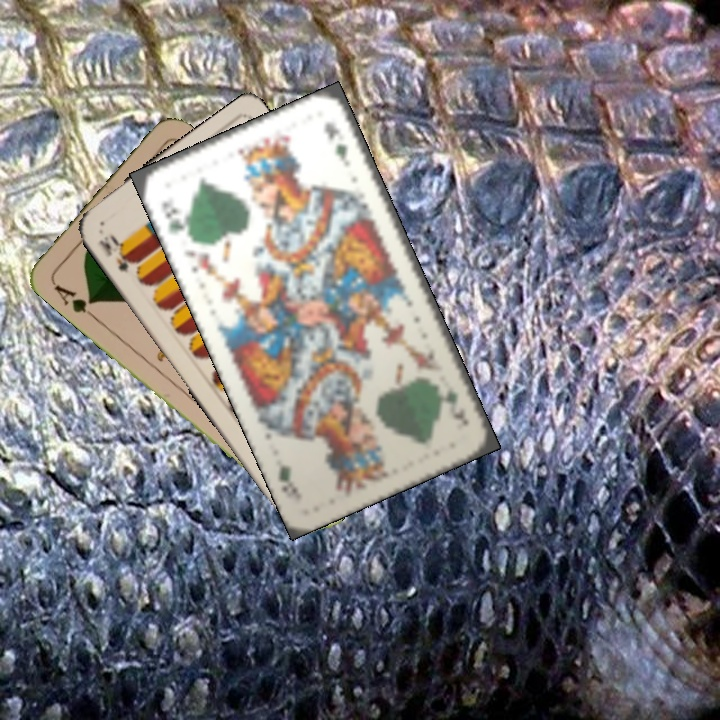E10: (94, 231, 141, 276)
GA: (50, 280, 99, 322)
GK: (435, 381, 472, 429), (157, 194, 194, 239)
